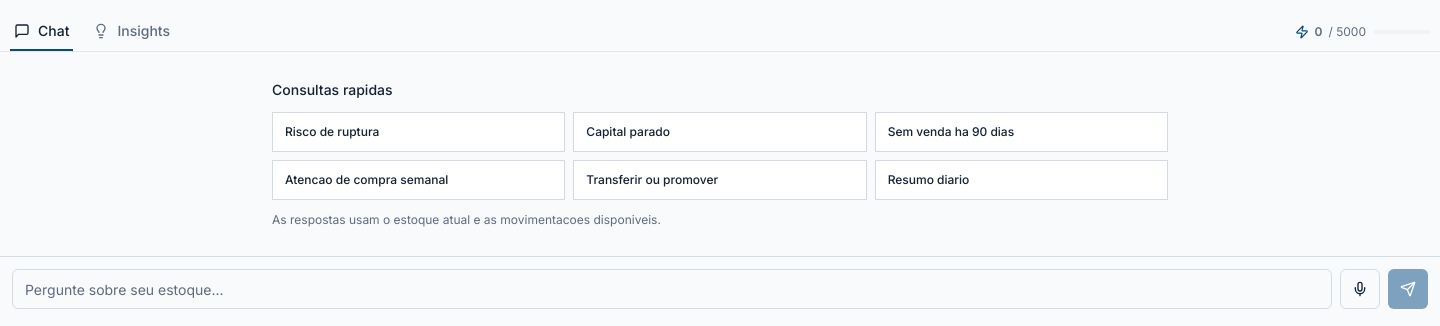
EstoqueAssistantTab › mostra fonte e periodo em respostas
In the field with placeholder "Pergunte sobre seu estoque...": (672, 289) 12,269 -> 1332,309, type "Analise"
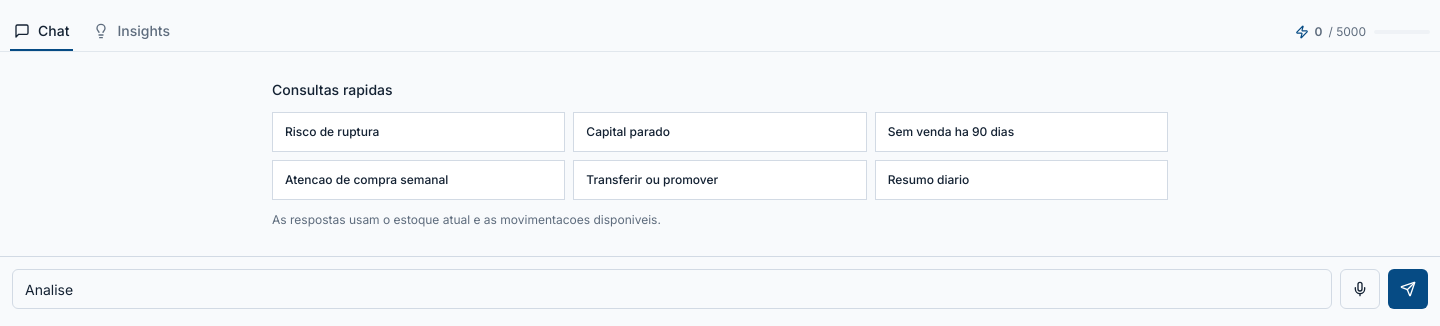
Click the button named "Enviar pergunta": (1408, 289) 1388,269 -> 1428,309
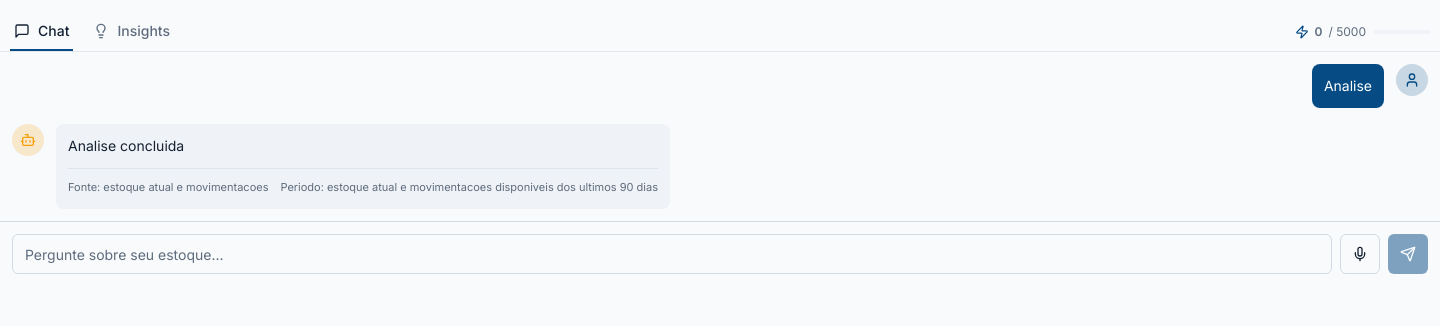
Result: the text "Analise concluida" is shown at 68,137 -> 184,154
Result: the text "Fonte: estoque atual e movimentacoes" is shown at 68,177 -> 268,197
Result: the text "Periodo: estoque atual e movimentacoes disponiveis dos ultimos 90 dias" is shown at 280,177 -> 658,197
